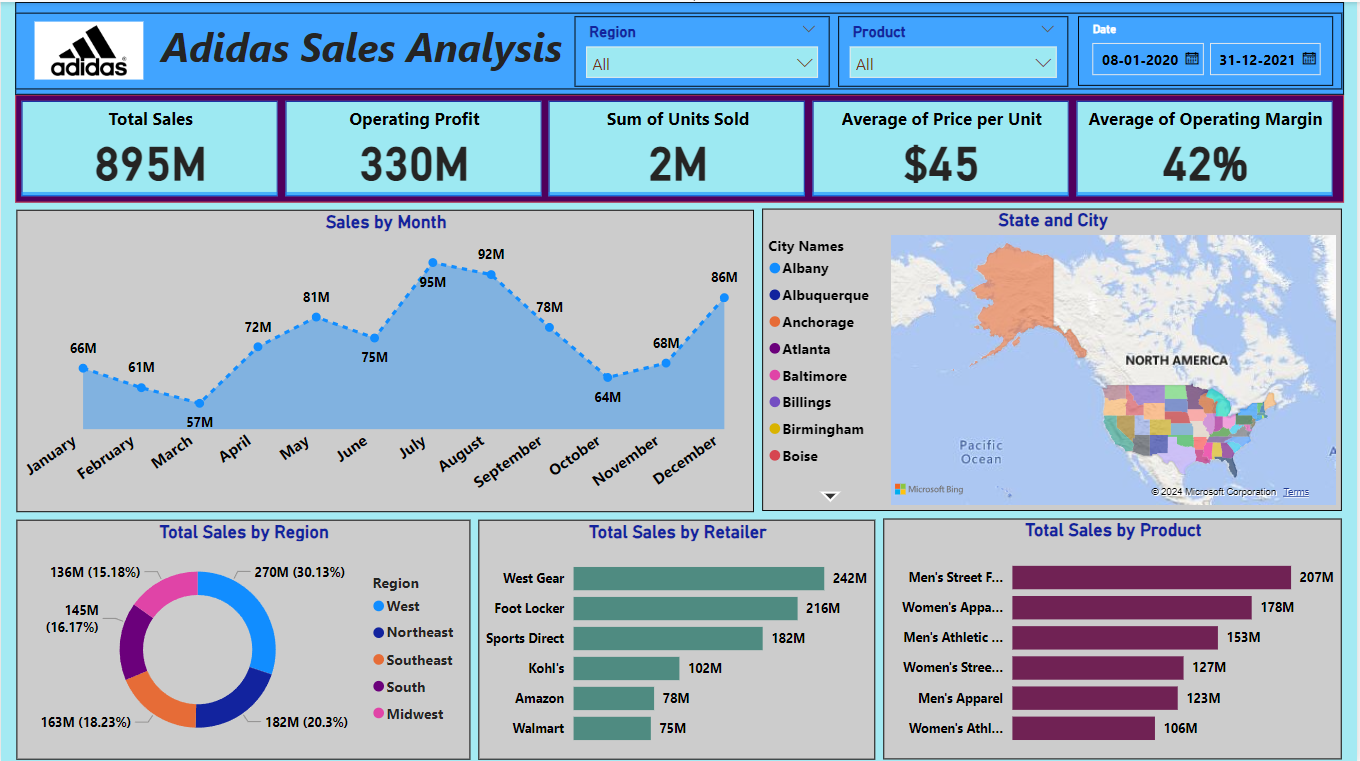

This screenshot's page, from the dashboard's own definition file:
{"tool":"powerbi","page":{"name":"Page 1","canvas":[1280,720],"ordinal":0},"visuals":[{"type":"cardVisual","fields":{"Data":["Sum(Data Sales Adidas.Total Sales)","Sum(Data Sales Adidas.Operating Profit)","Sum(Data Sales Adidas.Units Sold)","Avg(Data Sales Adidas.Price per Unit)","Avg(Data Sales Adidas.Operating Margin)"]},"box":[13.6,87.5,1254.5,102.3],"z":0},{"type":"textbox","box":[13.3,0,1254.4,87.8],"z":1000},{"type":"textbox","box":[13.6,10.2,1253.4,72.7],"z":2000},{"type":"areaChart","title":"Sales by Month","fields":{"Category":["Data Sales Adidas.Invoice Date.Variation.Date Hierarchy.Month"],"Y":["Sum(Data Sales Adidas.Total Sales)"]},"box":[14.8,196.6,696.6,285.2],"z":3000},{"type":"donutChart","title":"Total Sales by Region","fields":{"Y":["Sum(Data Sales Adidas.Total Sales)"],"Category":["Data Sales Adidas.Region"]},"box":[14.8,488.6,428.4,226.1],"z":4000},{"type":"barChart","title":"Total Sales by Product","fields":{"Y":["Sum(Data Sales Adidas.Total Sales)"],"Category":["Data Sales Adidas.Product"]},"box":[833,487.5,433,227.3],"z":5000},{"type":"barChart","title":"Total Sales by Retailer","fields":{"Y":["Sum(Data Sales Adidas.Total Sales)"],"Category":["Data Sales Adidas.Retailer"]},"box":[451.1,488.6,375,226.1],"z":6000},{"type":"filledMap","fields":{"Category":["Data Sales Adidas.State"],"Series":["Data Sales Adidas.City"]},"box":[718.9,195.6,547.8,285.6],"z":7000},{"type":"slicer","fields":{"Values":["Data Sales Adidas.Region"]},"box":[541.6,13.5,241.1,66.2],"z":8000},{"type":"slicer","fields":{"Values":["Data Sales Adidas.Product"]},"box":[790.5,13.5,217.5,66.2],"z":9000},{"type":"slicer","fields":{"Values":["Data Sales Adidas.Invoice Date"]},"box":[1017,13.6,240.9,65.9],"z":10000},{"type":"image","box":[25.8,13.5,114.4,65],"z":10001}]}

Visuals, with their boxes in screenshot pixels (x1, y1, x2, y2), scaled from the page's 1280x720 canvas onto the 1360x761 screenshot:
cardVisual - Sum(Data Sales Adidas.Total Sales) x Sum(Data Sales Adidas.Operating Profit): bbox=(14, 92, 1347, 201)
textbox: bbox=(14, 0, 1347, 93)
textbox: bbox=(14, 11, 1346, 88)
"Sales by Month" areaChart: bbox=(16, 208, 756, 509)
"Total Sales by Region" donutChart: bbox=(16, 516, 471, 755)
"Total Sales by Product" barChart: bbox=(885, 515, 1345, 756)
"Total Sales by Retailer" barChart: bbox=(479, 516, 878, 755)
filledMap - Data Sales Adidas.State x Data Sales Adidas.City: bbox=(764, 207, 1346, 509)
slicer - Data Sales Adidas.Region: bbox=(575, 14, 832, 84)
slicer - Data Sales Adidas.Product: bbox=(840, 14, 1071, 84)
slicer - Data Sales Adidas.Invoice Date: bbox=(1081, 14, 1337, 84)
image: bbox=(27, 14, 149, 83)
